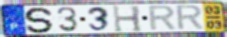3: (86, 5, 113, 33), (55, 6, 80, 33)
H: (111, 5, 145, 33)
R: (176, 4, 207, 32), (148, 5, 179, 33)
S: (23, 6, 56, 34)
